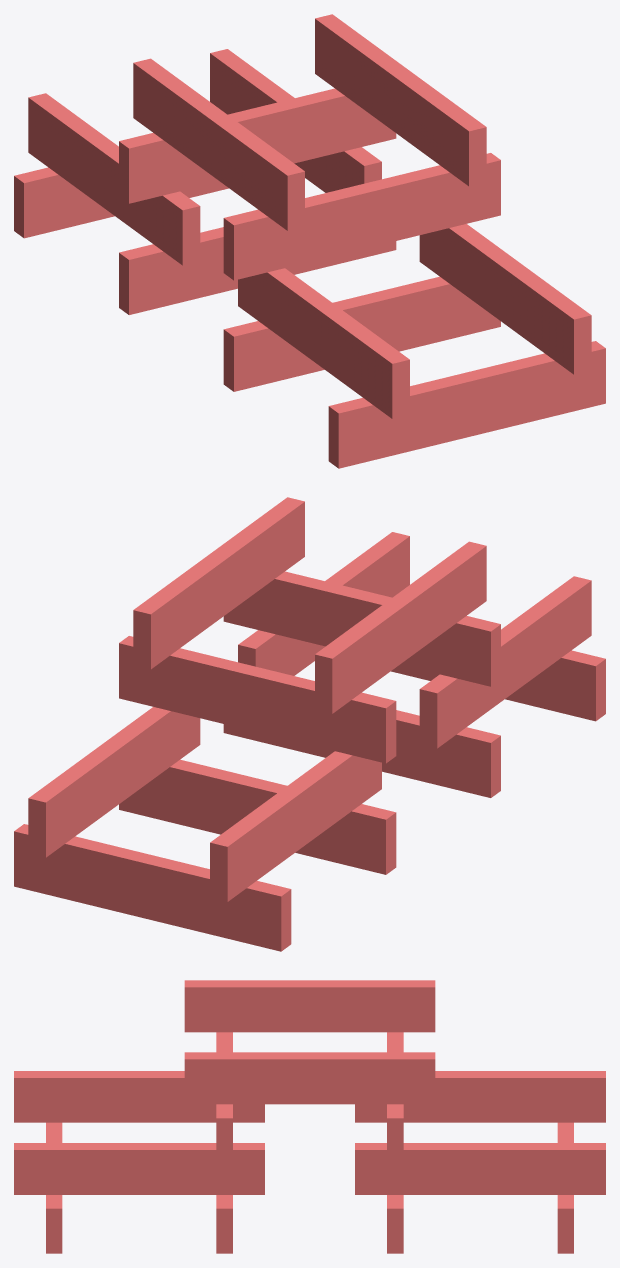
File: flat_3_tower.dae
3 renders of one model, top to bottom at view 1: azimuth 30°, elevation 25°; view 2: azimuth 150°, elevation 25°; view 3: azimuth 270°, elevation 25°, orthographic. The views are drawn at different scales.
Parts seen in each view (by area): view 1: base (×12); view 2: base (×12); view 3: base (×12).
Boxes of the visible parts, x1,y1,x2,y2 form: base (×12): (14, 14, 605, 468); base (×12): (14, 497, 605, 951); base (×12): (14, 980, 605, 1253).
Bounding box in the file's own units: 0.1177 × 0.2777 × 0.0936.
